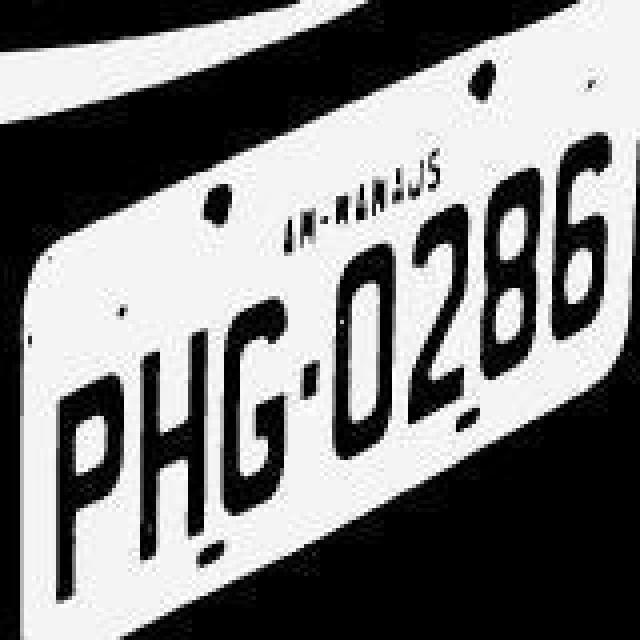2: (410, 200, 470, 432)
6: (554, 122, 614, 342)
8: (480, 160, 544, 392)
G: (222, 288, 290, 520)
H: (136, 322, 216, 558)
O: (332, 236, 396, 468)
P: (52, 360, 124, 600)
